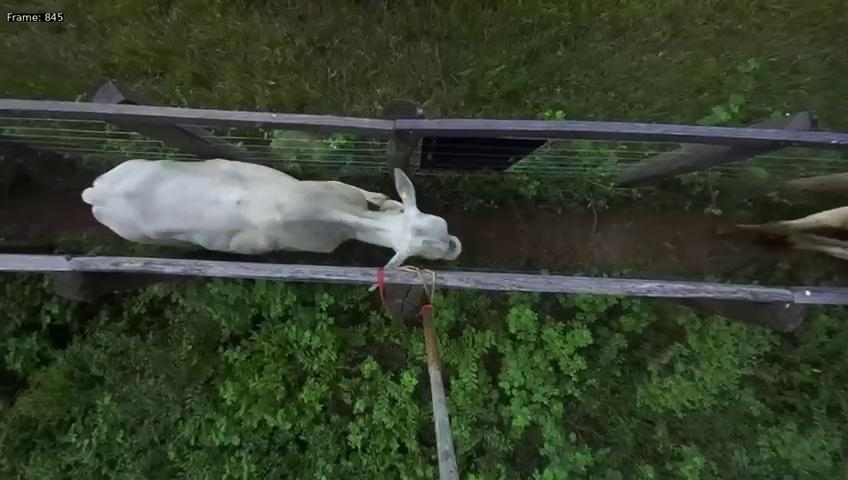cattle: (81, 147, 462, 267)
